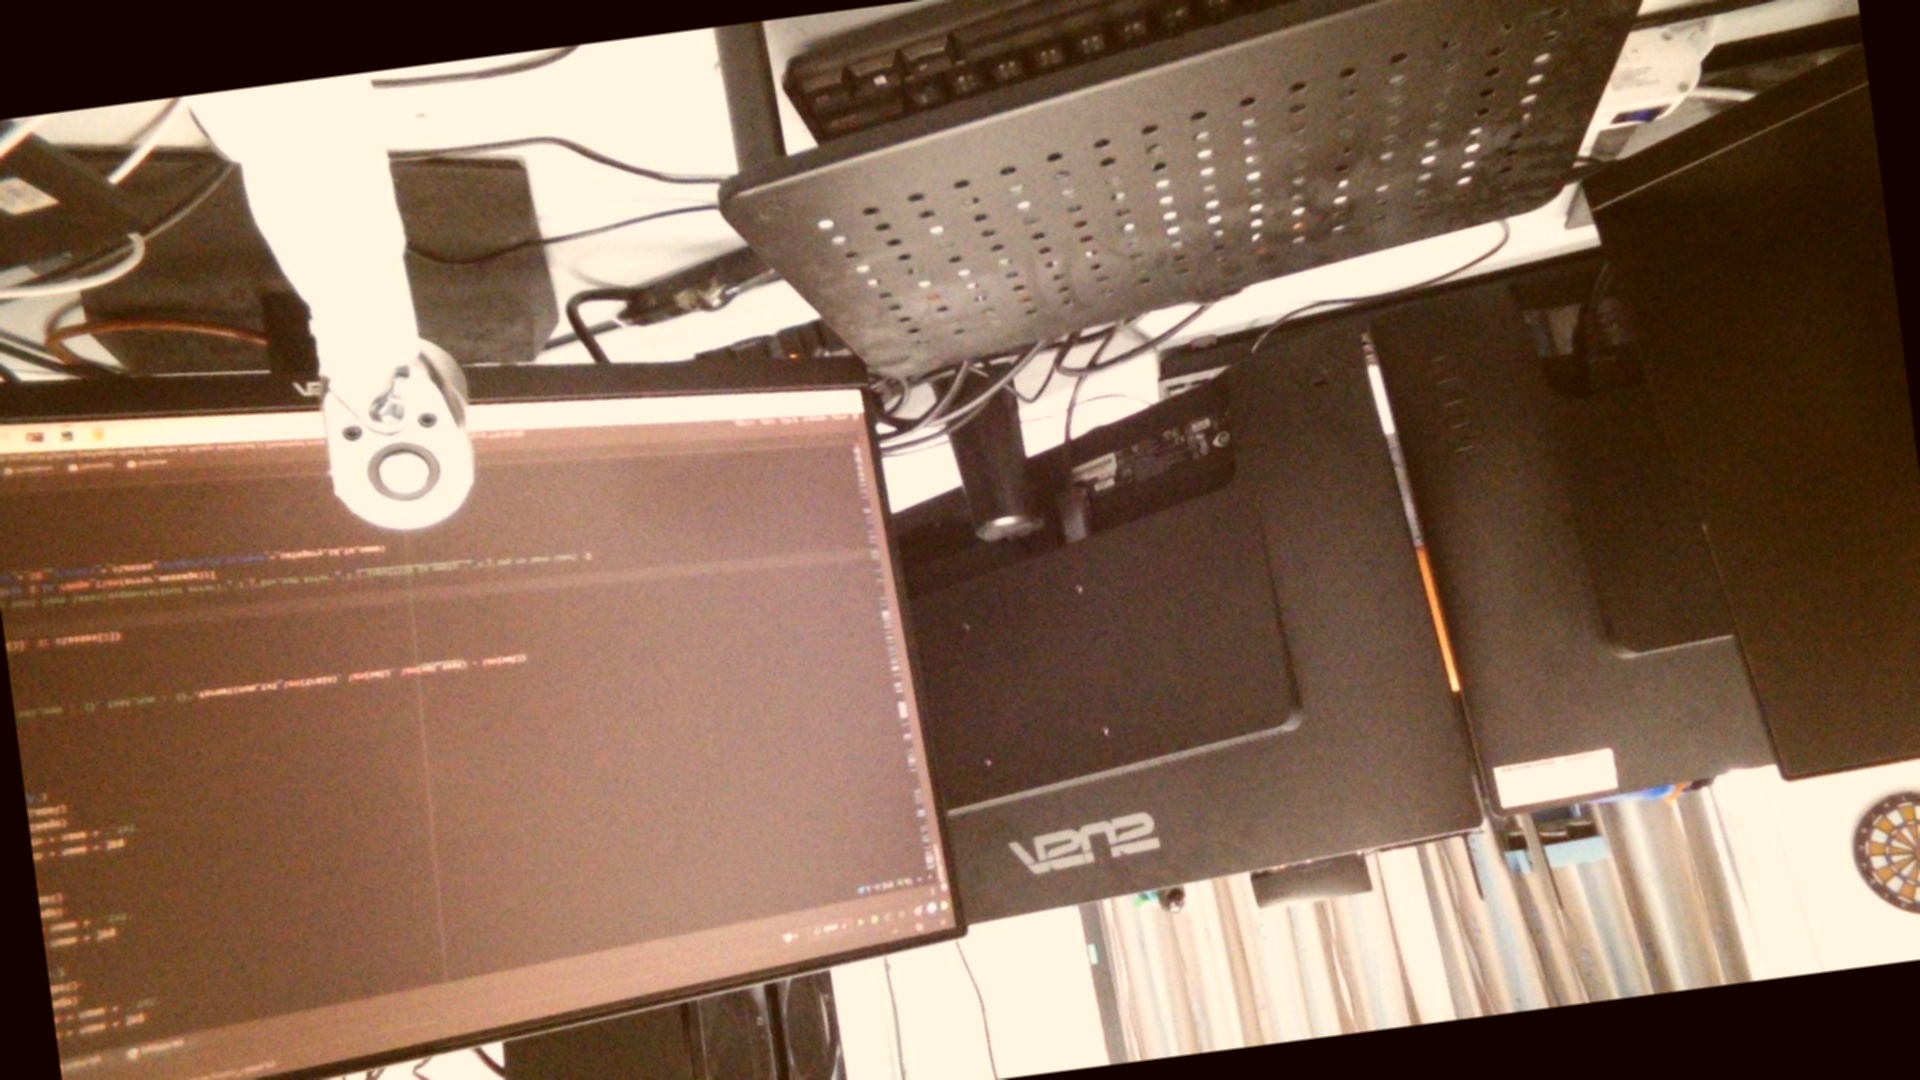wrench: (360, 436, 446, 512)
